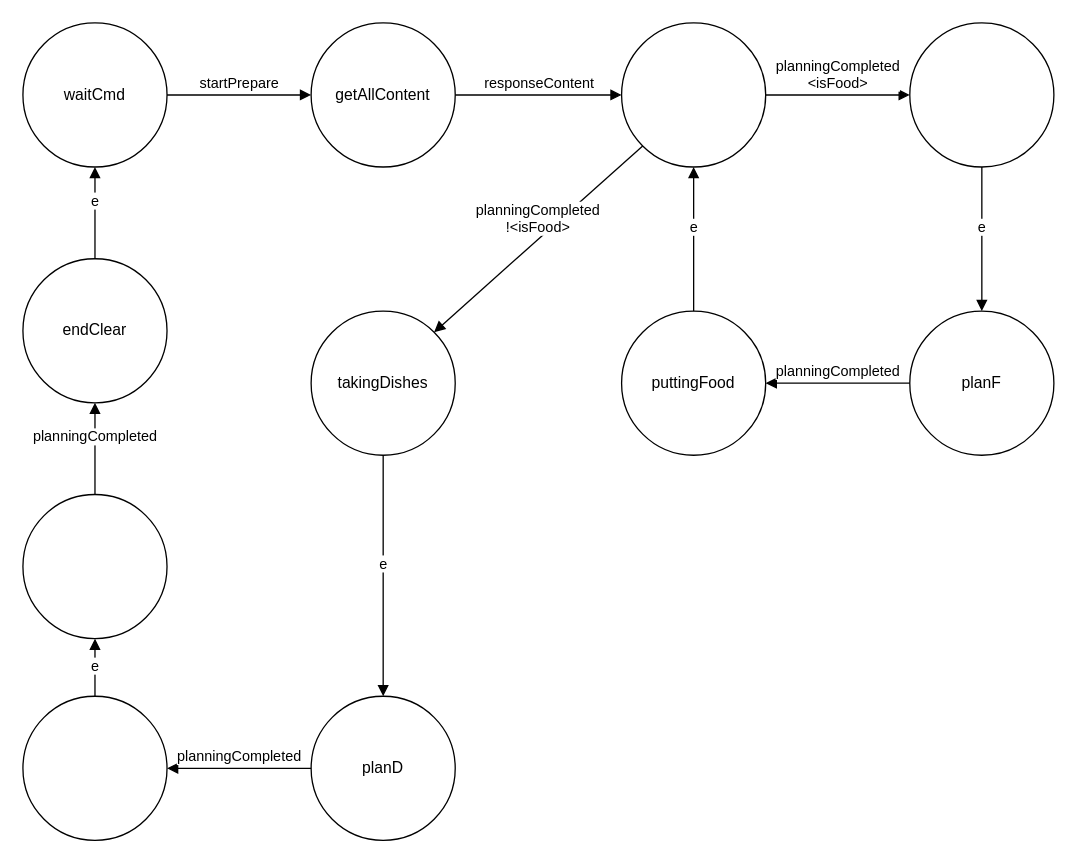
This 1077x863 diagram has some shape labels left out. The centre of each missing label's shape, as x and y in pixels:
planRH: the point at 94,566
planT: the point at 693,94
puttingDishes: the point at 94,767
takingFood: the point at 981,94
